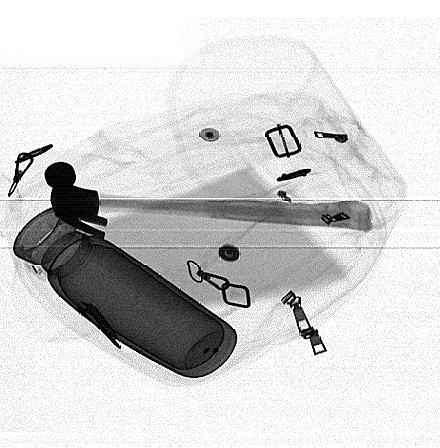Hammer: (44, 162, 374, 241)
